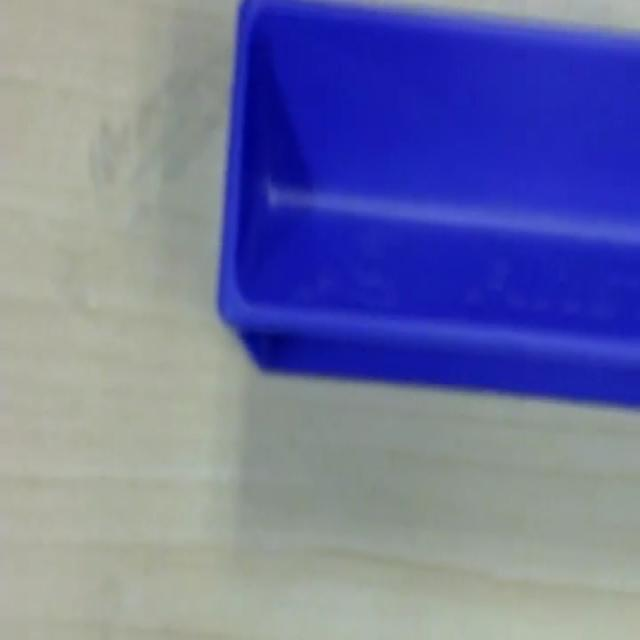blue_block: (216, 4, 640, 412)
